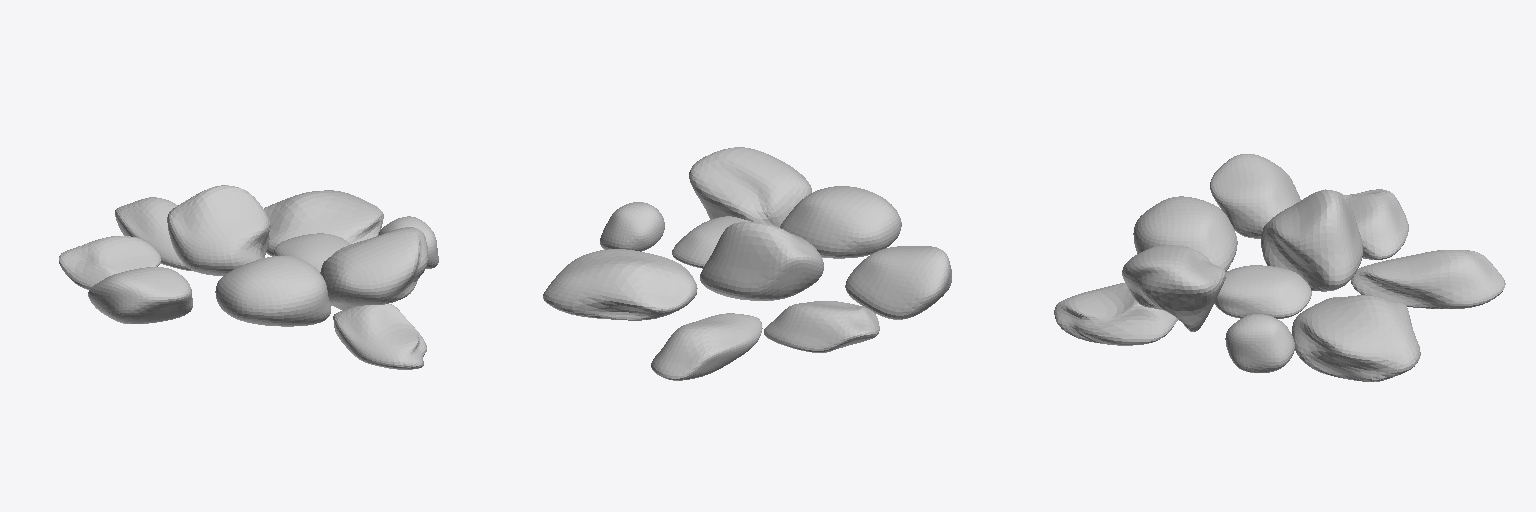
Rendered from rock_stone.obj.
3 views of the same model, side by side, from view 1: azimuth 30°, elevation 25°; view 2: azimuth 150°, elevation 25°; view 3: azimuth 270°, elevation 25° (orthographic).
Parts seen in each view (by area): view 1: Box002, Box001, Box003, Box010, Box006, Box008, Box005, Box007, Box004, Box009; view 2: Box010, Box002, Box003, Box001, Box006, Box007, Box005, Box009, Box004; view 3: Box010, Box002, Box007, Box003, Box008, Box006, Box001, Box004, Box009, Box005.
Boxes of the visible parts, <box> form: Box002: <box>167,185,270,275</box>; Box001: <box>215,256,330,326</box>; Box003: <box>320,227,427,310</box>; Box010: <box>264,190,383,255</box>; Box006: <box>88,267,192,323</box>; Box008: <box>333,304,426,369</box>; Box005: <box>59,236,161,289</box>; Box007: <box>115,197,194,271</box>; Box004: <box>274,233,350,271</box>; Box009: <box>378,216,438,268</box>; Box010: <box>543,249,697,320</box>; Box002: <box>700,222,823,300</box>; Box003: <box>689,147,811,227</box>; Box001: <box>780,186,901,258</box>; Box006: <box>845,246,951,319</box>; Box007: <box>651,313,762,380</box>; Box005: <box>764,301,879,352</box>; Box009: <box>600,202,664,251</box>; Box004: <box>672,216,750,268</box>; Box010: <box>1292,295,1420,381</box>; Box002: <box>1261,189,1362,291</box>; Box007: <box>1351,250,1505,308</box>; Box003: <box>1122,245,1225,331</box>; Box008: <box>1054,283,1177,345</box>; Box006: <box>1210,154,1300,238</box>; Box001: <box>1133,196,1237,271</box>; Box004: <box>1214,265,1311,318</box>; Box009: <box>1225,314,1294,372</box>; Box005: <box>1345,189,1408,259</box>.
Size of the model in its own units: 99.02 by 30.16 by 114.